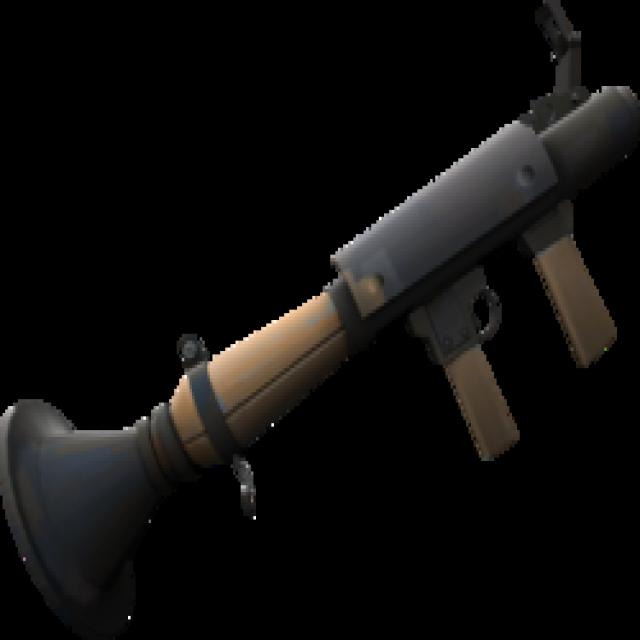bazooka: (1, 2, 640, 639)
